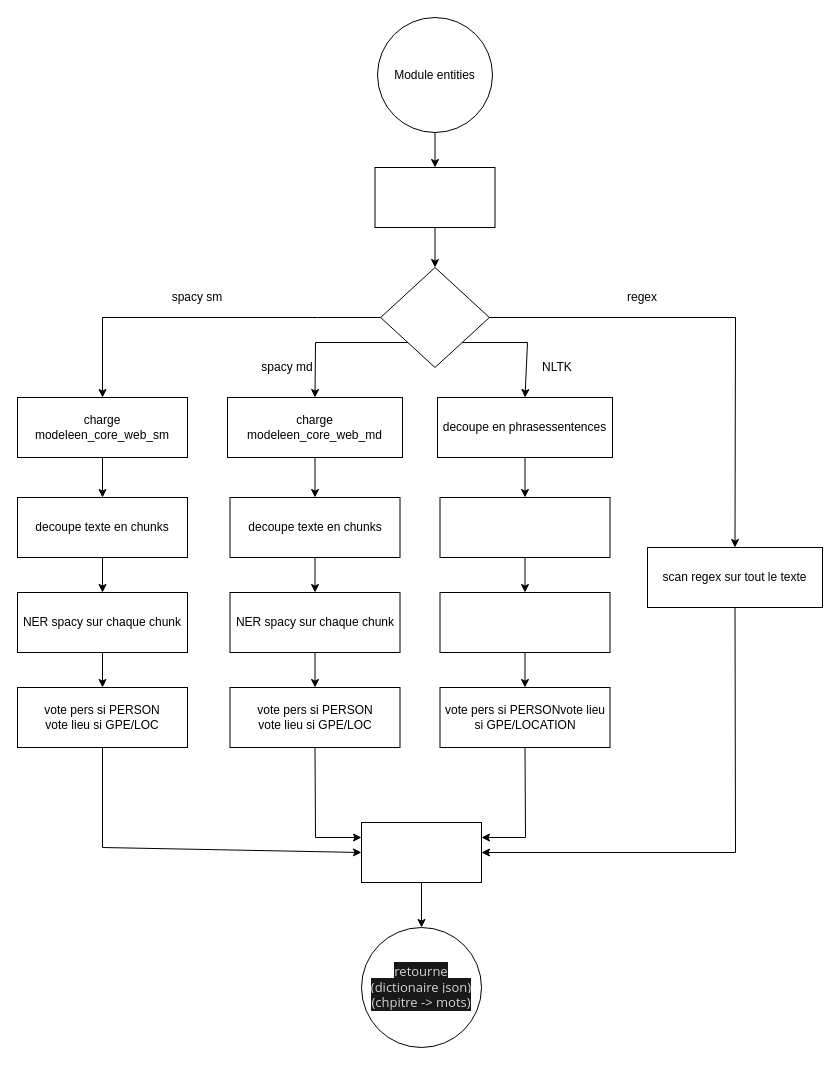
Image size: 840x1065. Some labels were removed from this diagram. The centre of each missing label's shape, as x and y in pixels:
"cache resultat" belongs at (x=421, y=852).
"choix methode" belongs at (x=434, y=317).
"ne_chunk NER nltk" belongs at (x=524, y=622).
"récuperation du text get_clean_text {id}" belongs at (x=434, y=197).
"tokenise / pos_tagpar lots de 80 phrases" belongs at (x=524, y=527).
